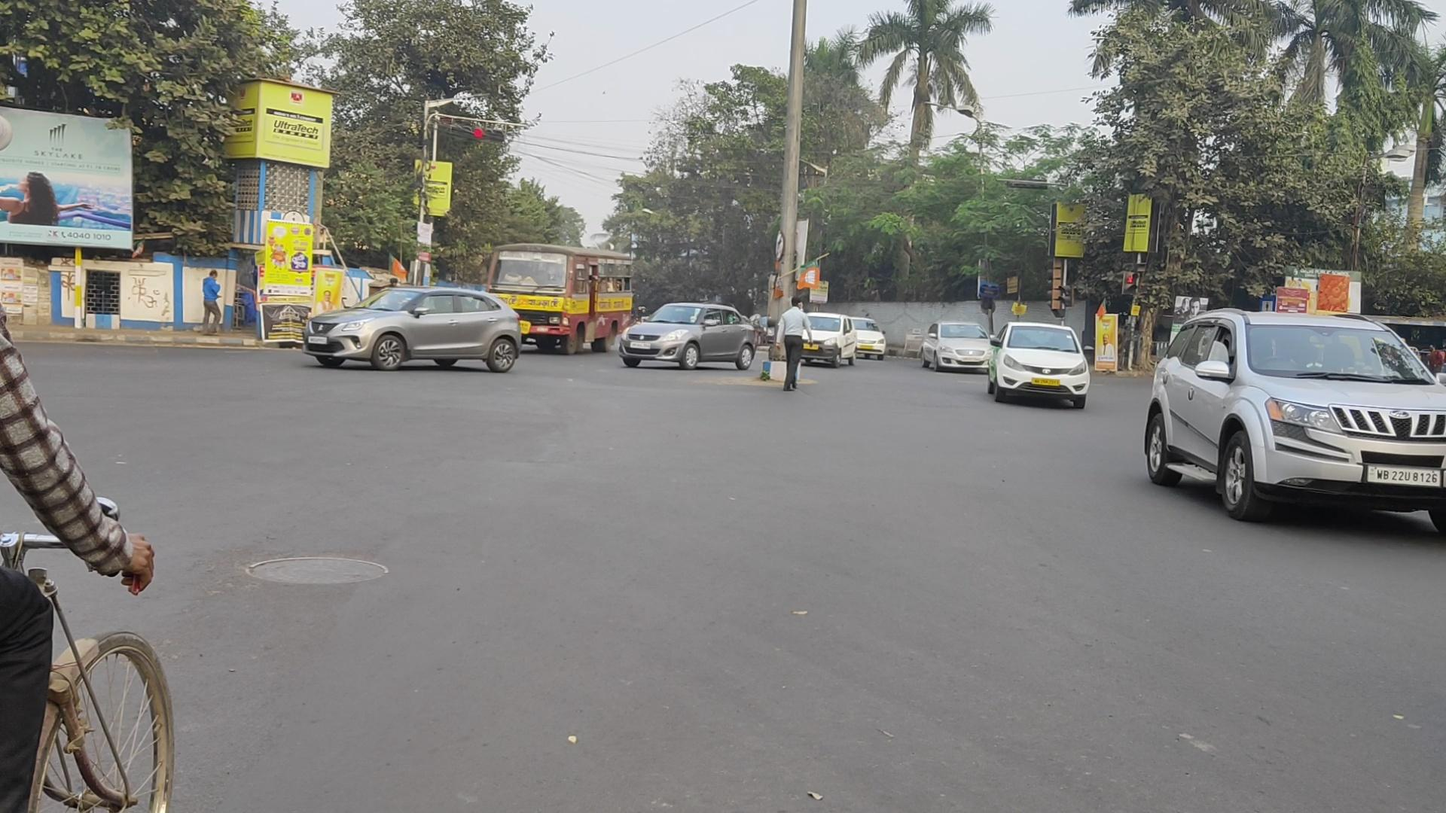Bus: (486, 242, 633, 357)
car: (1144, 308, 1446, 537), (304, 286, 521, 373), (619, 302, 756, 370), (988, 321, 1090, 410), (921, 321, 996, 374), (800, 312, 857, 368), (850, 316, 886, 361)
